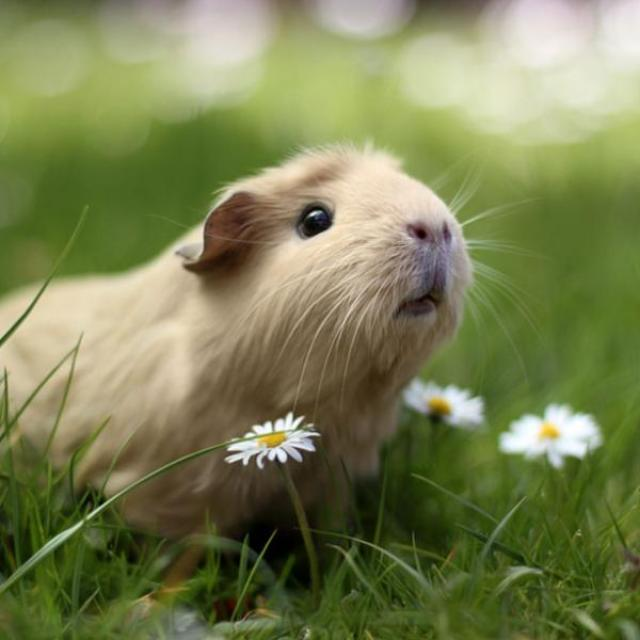guinea pig: (1, 146, 475, 540)
